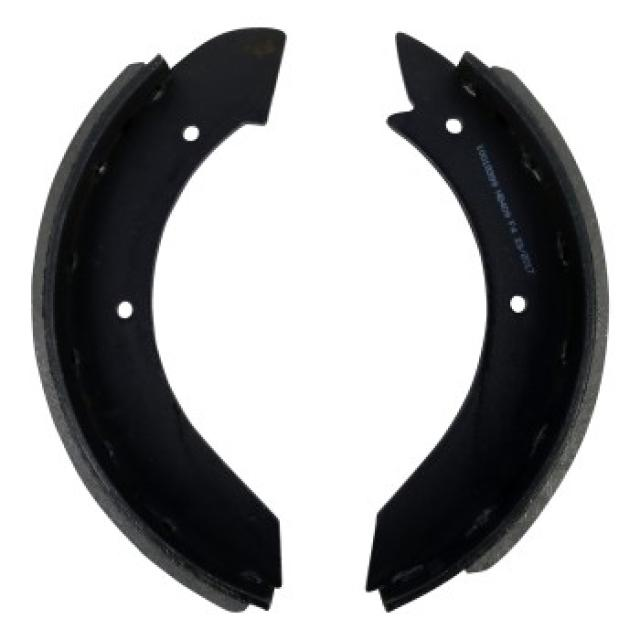brake_pad: (24, 17, 320, 621), (359, 18, 616, 620)
